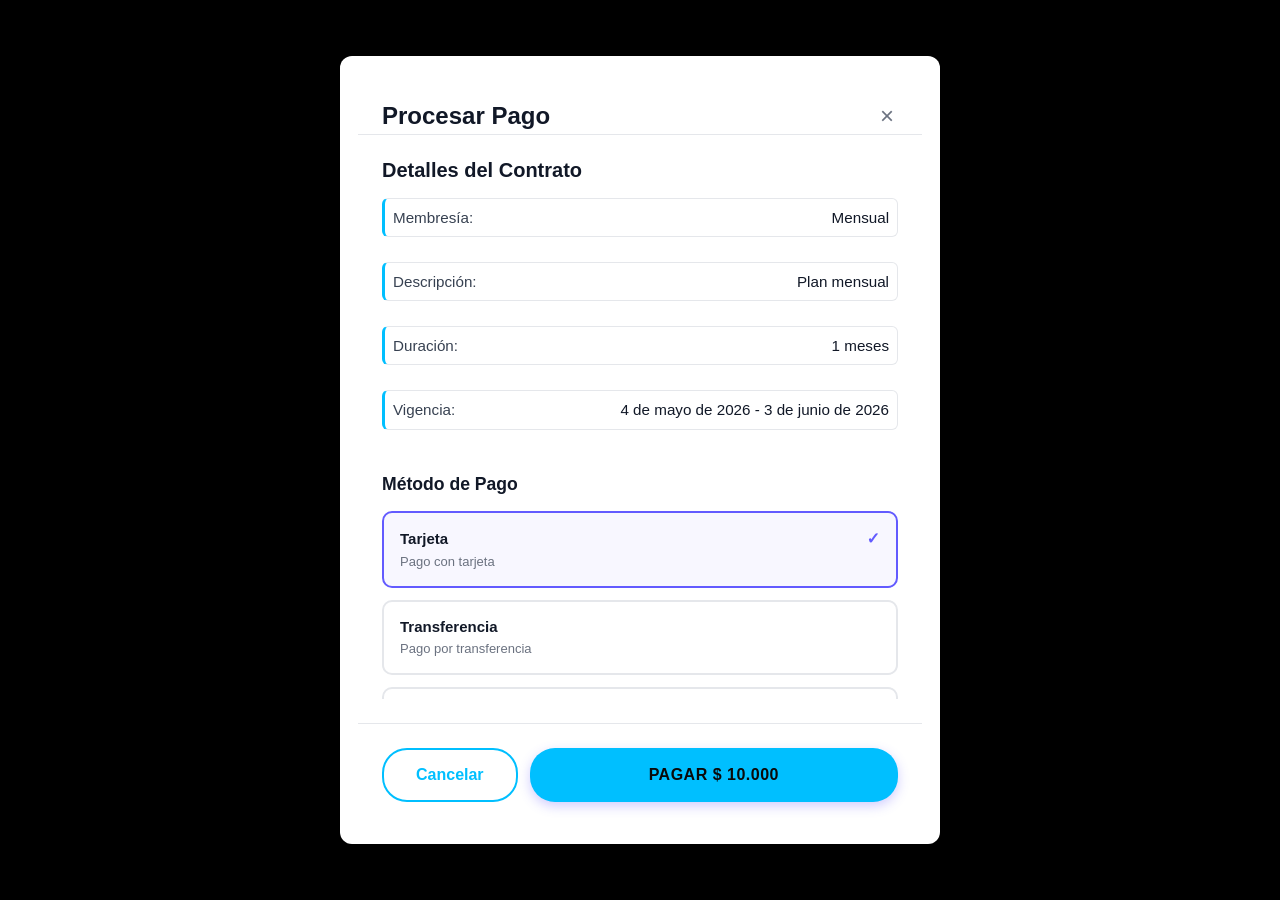
Test: PagoModal › muestra error si Stripe no devuelve checkoutUrl
The width and height of the screenshot is (1280, 900).
Expected: the text "Tarjeta" is shown, [400, 530, 448, 547]
What coordinates should you click on to do the following:
click the button "Pagar $ 10.000"
I would click on:
 (714, 775)
Its box is [530, 748, 898, 802].
(page scrolled)
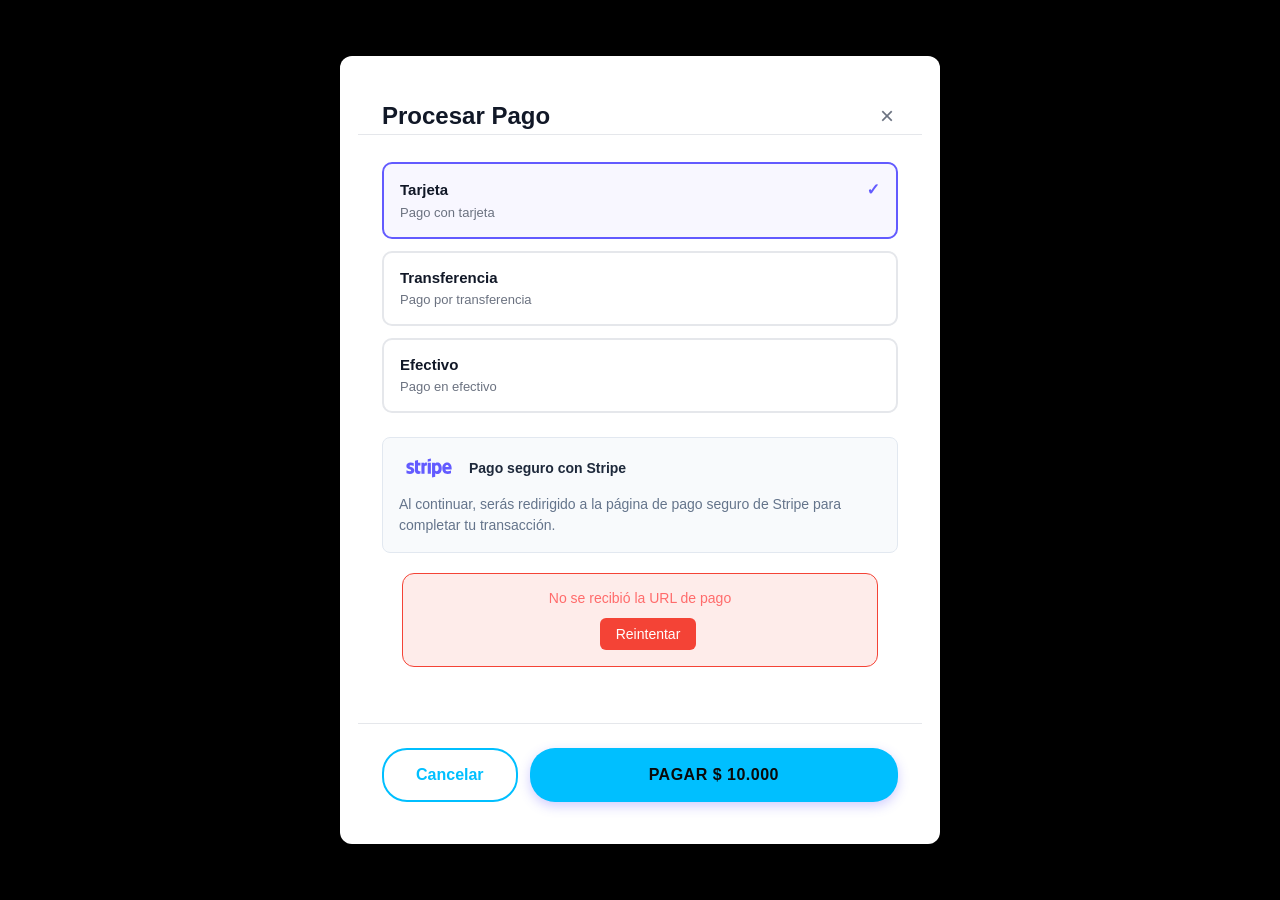
Now the text "No se recibió la URL de pago" is shown, box [549, 590, 731, 606]
